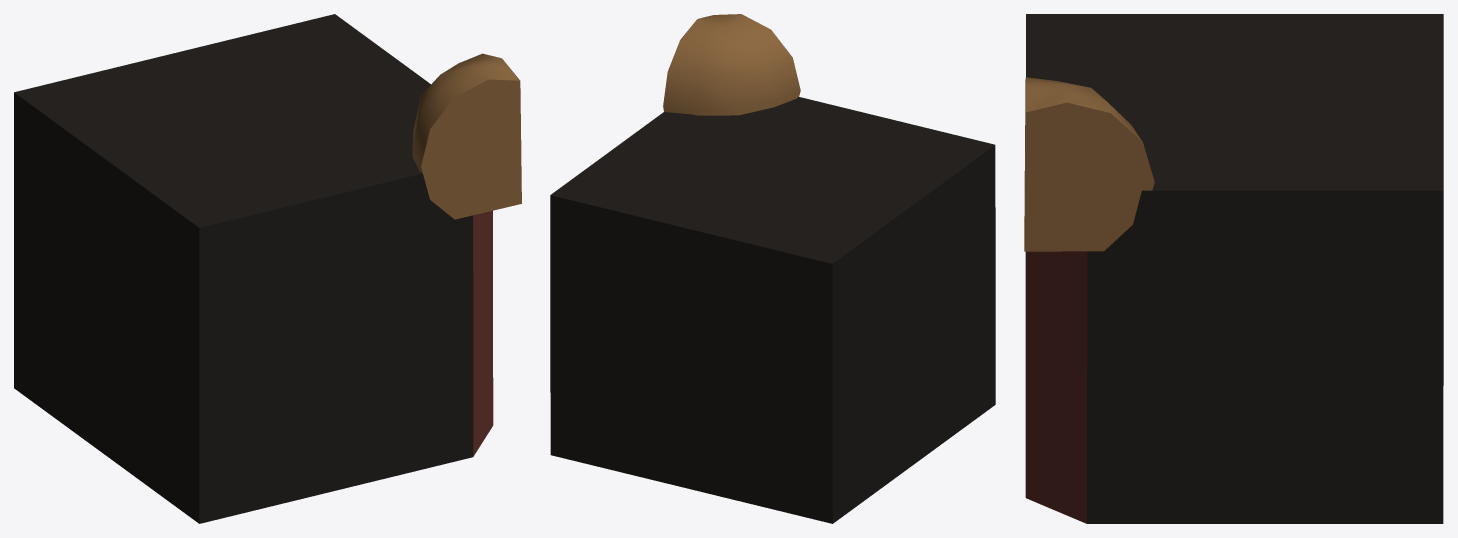
The model's file is corner_in..fbx.
3 renders of one model, left to right at view 1: azimuth 30°, elevation 25°; view 2: azimuth 150°, elevation 25°; view 3: azimuth 270°, elevation 25°, orthographic. The views are drawn at different scales.
Parts seen in each view (by area): view 1: in cube, in rim; view 2: in cube, in rim; view 3: in cube, in rim.
Boxes of the visible parts, left/top/right/bottom form: in cube: left=14, top=14, right=493, bottom=523; in rim: left=412, top=53, right=521, bottom=219; in cube: left=550, top=97, right=995, bottom=523; in rim: left=663, top=14, right=800, bottom=115; in cube: left=1025, top=14, right=1443, bottom=523; in rim: left=1024, top=77, right=1154, bottom=251.
Bounding box in the file's own units: 201 × 223 × 201.
